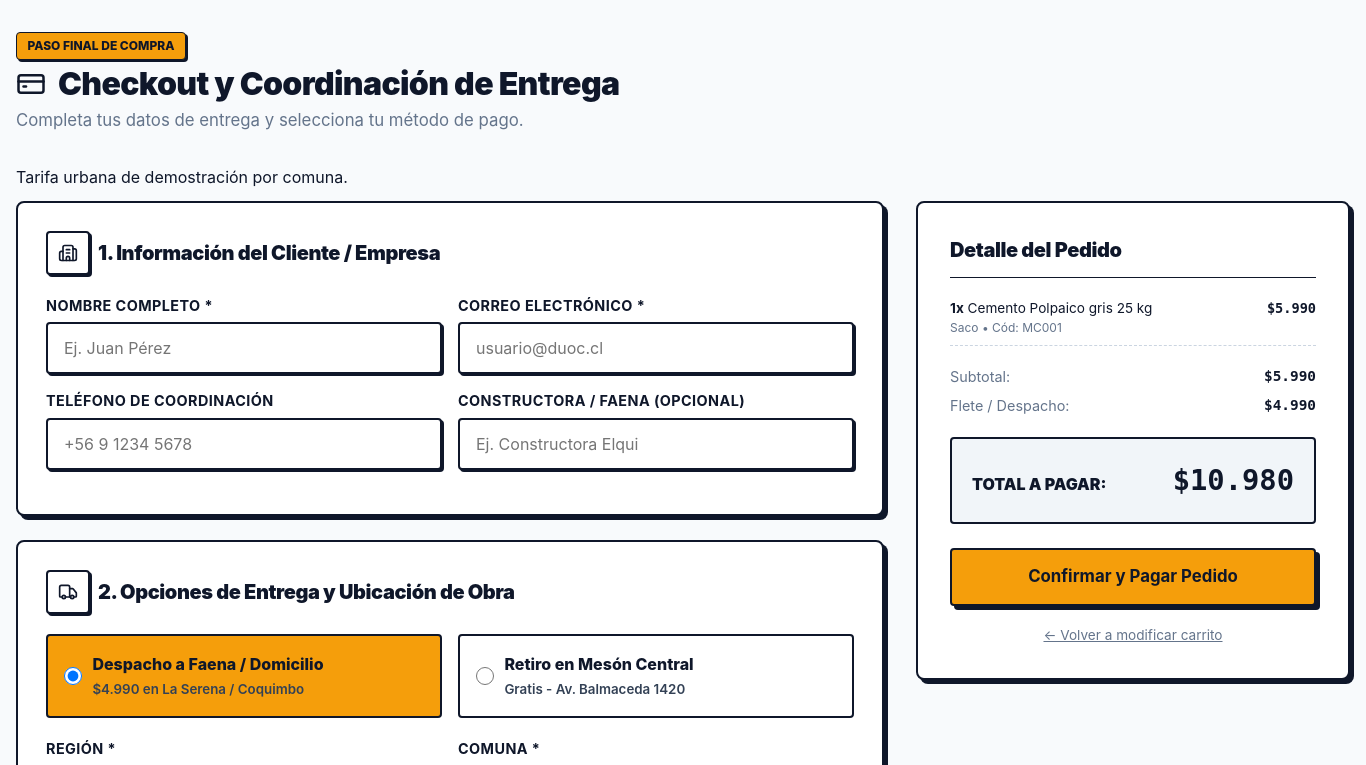
it: Checkout completo › mantiene la confirmación después de vaciar el carrito y muestra el flete
Type "Cliente de prueba" into the field labelled "Nombre Completo *" at (244, 348), box [46,322,442,374]
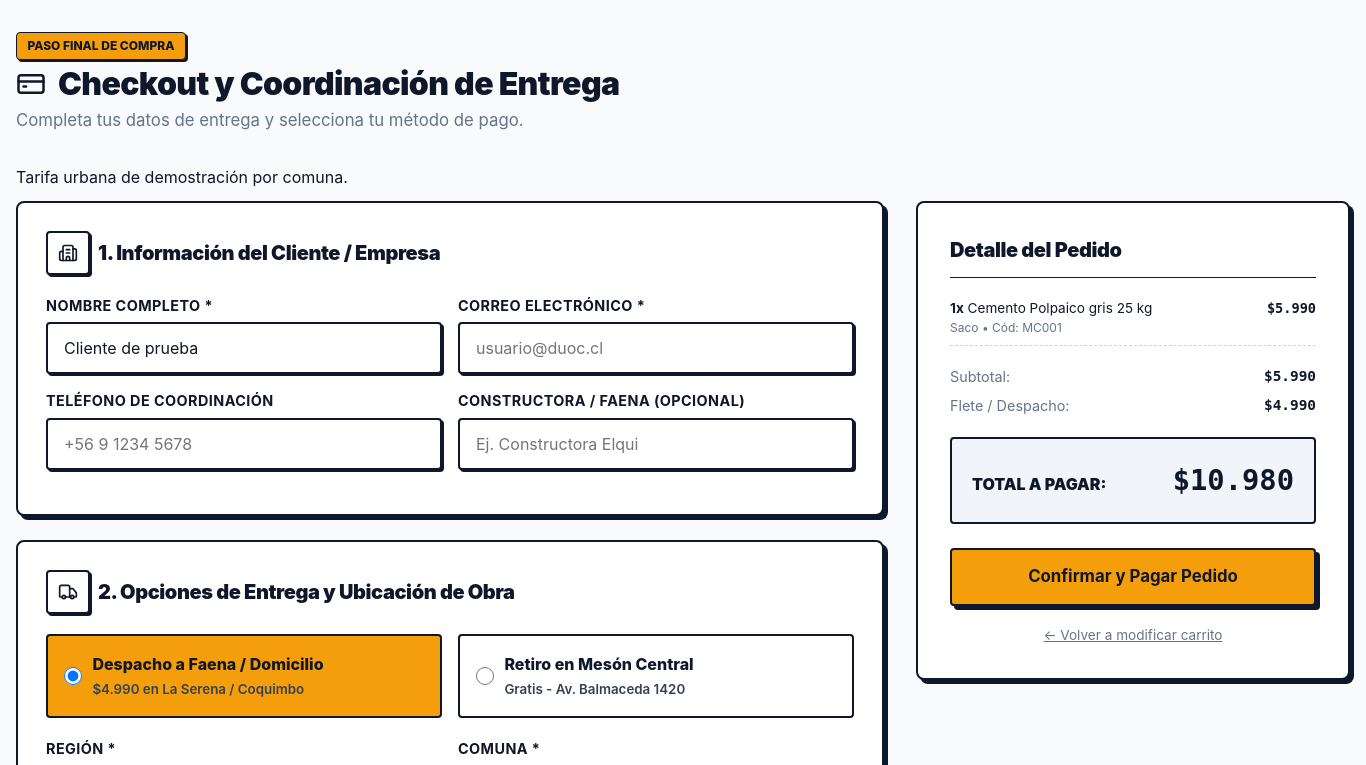
Type "prueba@gmail.com" into the field labelled "Correo Electrónico *" at (656, 348), box [458,322,854,374]
(page scrolled)
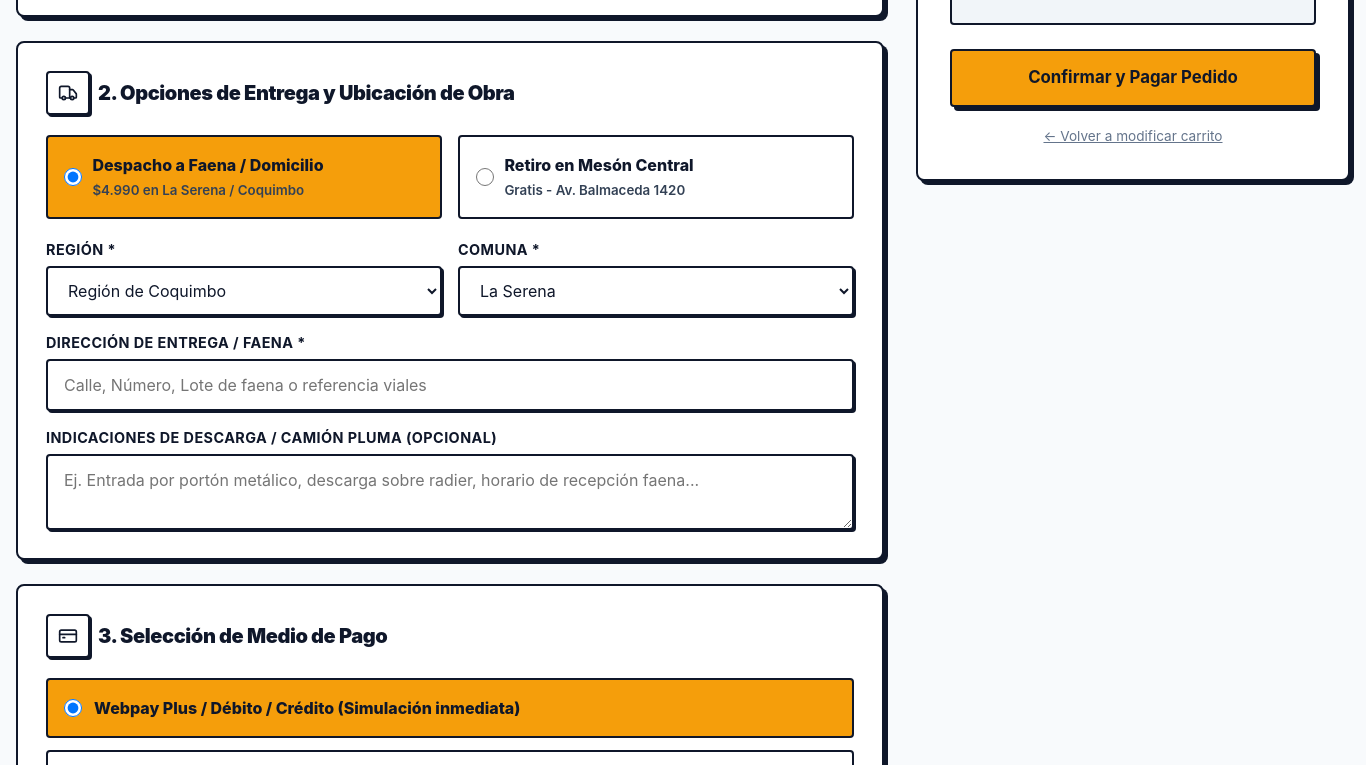
Type "Dirección ficticia 123" into the field labelled "Dirección de Entrega / Faena *" at (450, 385), box [46,359,854,411]
(page scrolled)
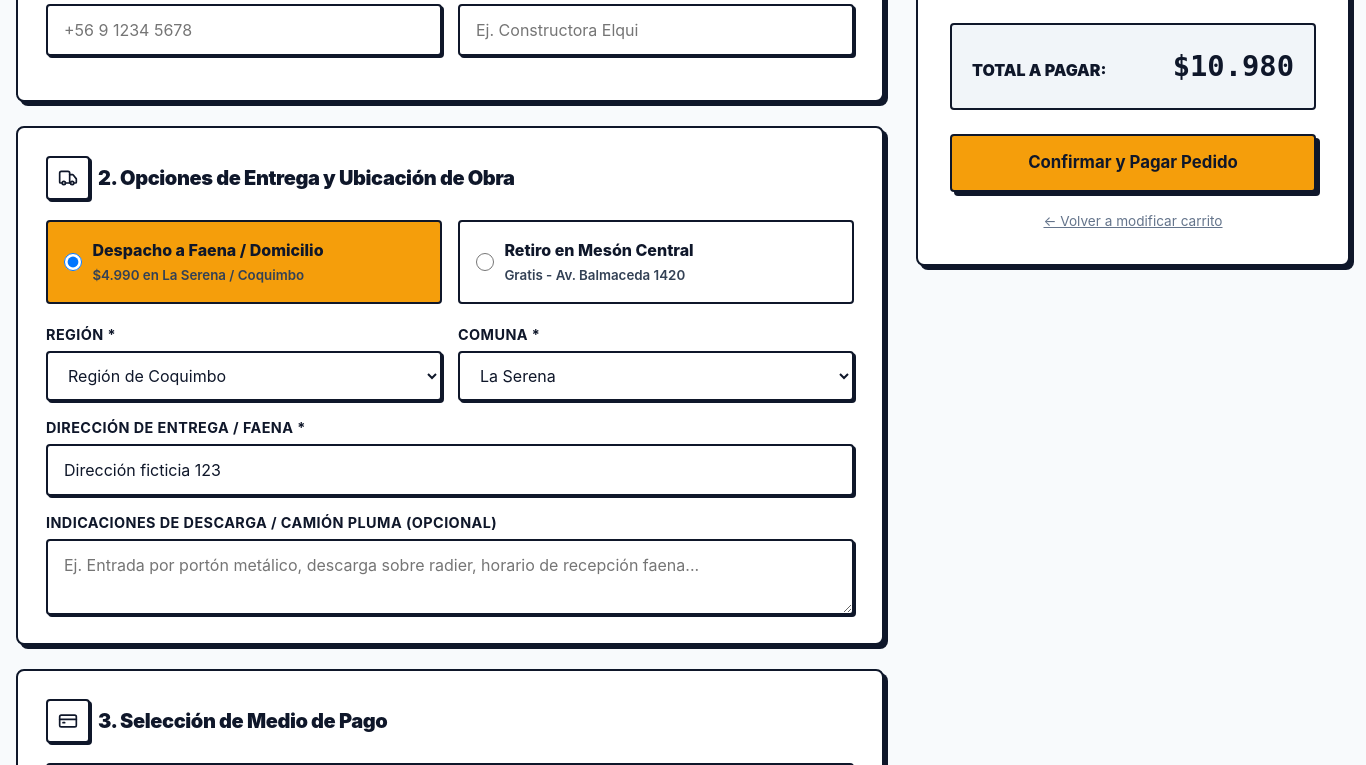
Submit the form with test id "checkout-form"
(page scrolled)
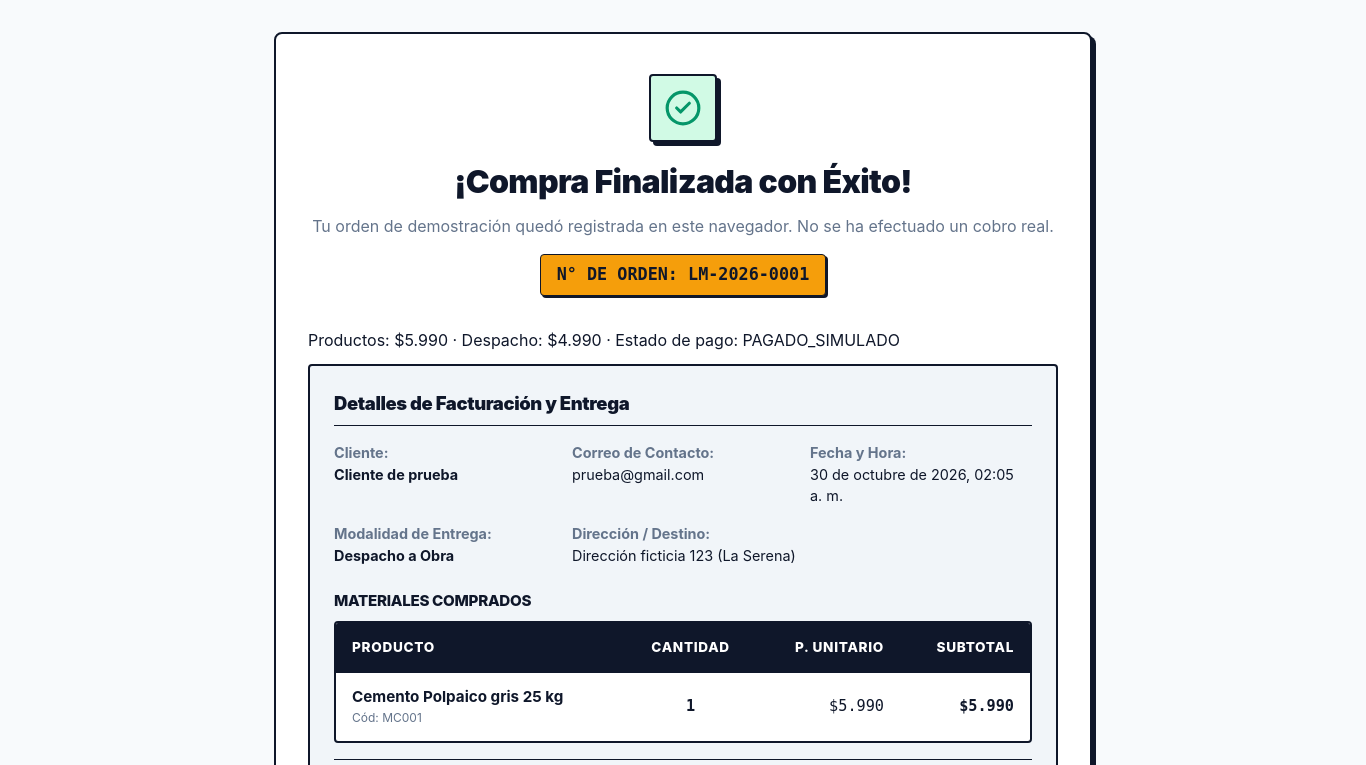
Check: the heading "¡Compra Finalizada con Éxito!" is shown, box [454,162,912,201]
